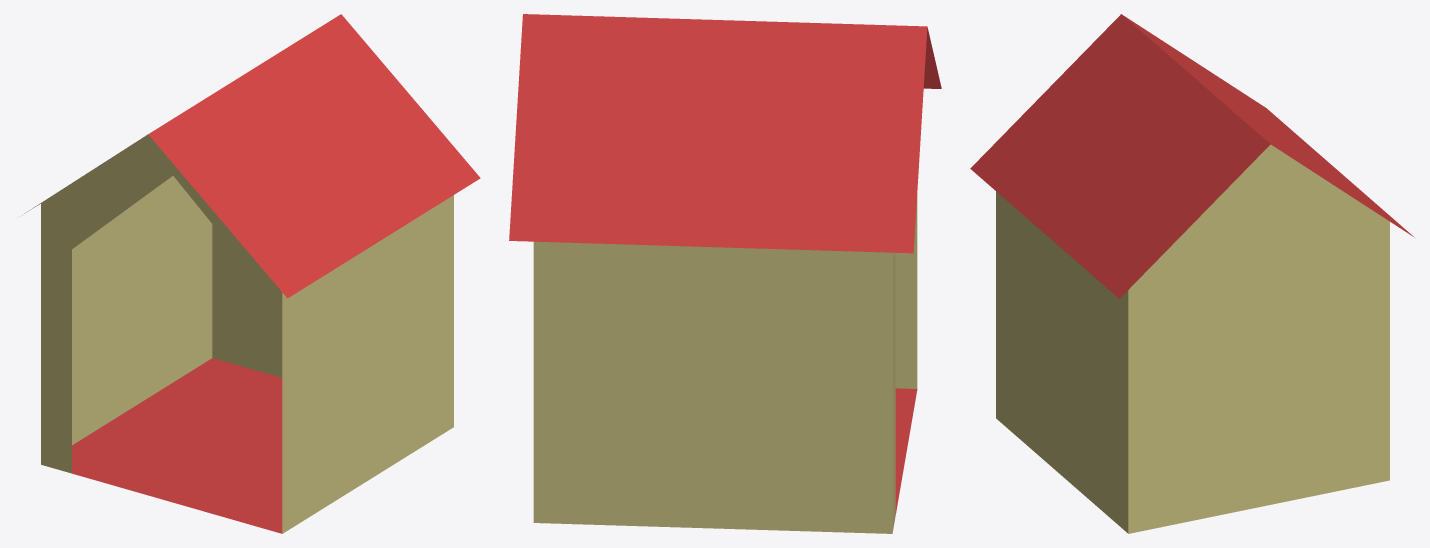
3 views of the same model, side by side, from view 1: azimuth 30°, elevation 25°; view 2: azimuth 150°, elevation 25°; view 3: azimuth 270°, elevation 25° (orthographic). The views are drawn at different scales.
Size of the model in its own units: 17.57 by 17.33 by 15.86.
